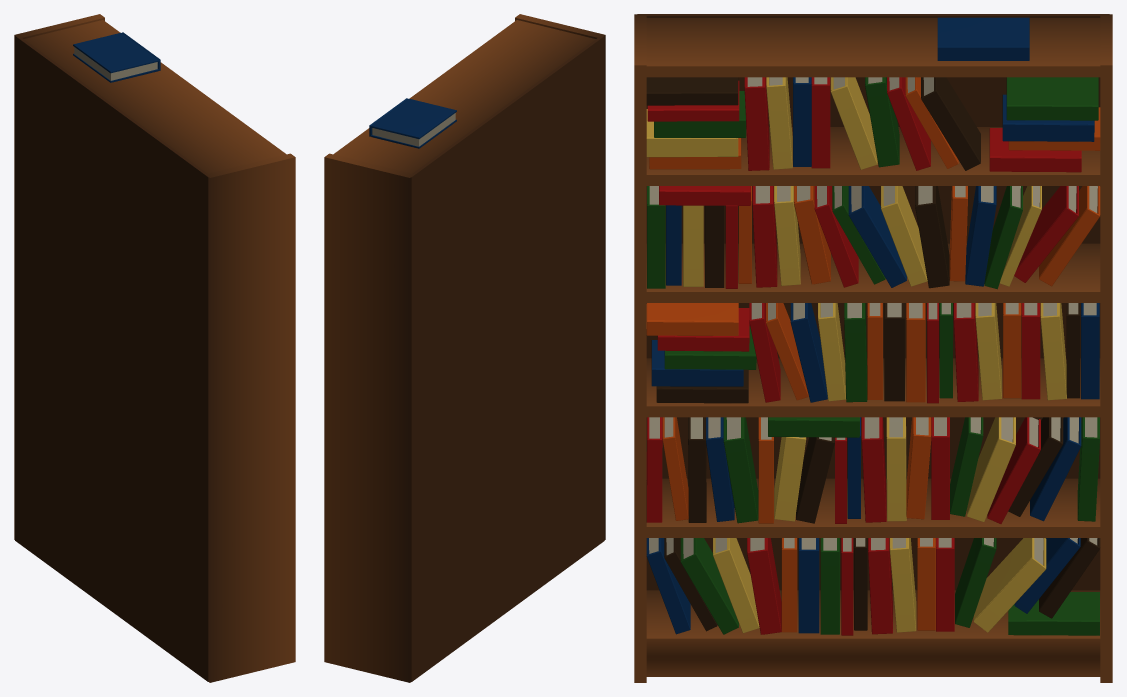
The model's file is Owl Bookshelf 1.fbx.
The picture shows the model from 3 angles, left to right: view 1: azimuth 30°, elevation 25°; view 2: azimuth 150°, elevation 25°; view 3: azimuth 270°, elevation 25°; orthographic projection. The views are drawn at different scales.
Parts seen in each view (by area): view 1: pCube131; view 2: pCube131; view 3: pCube131.
Boxes of the visible parts, bbox=[...] form: pCube131: bbox=[14, 14, 295, 682]; pCube131: bbox=[324, 14, 605, 682]; pCube131: bbox=[634, 14, 1112, 682].
Bounding box in the file's own units: 49.68 × 284 × 196.
